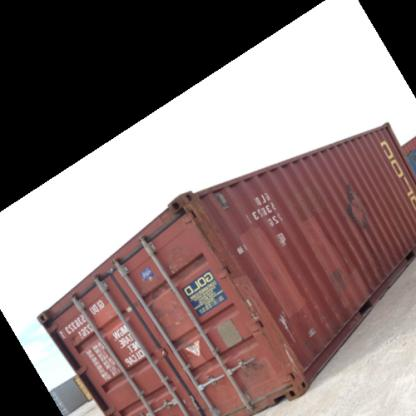Damage: (186, 198, 226, 246), (275, 306, 305, 369), (338, 180, 374, 228), (322, 258, 361, 296), (142, 286, 176, 325), (231, 354, 262, 384), (271, 223, 291, 250), (232, 238, 252, 259), (306, 321, 318, 345)
